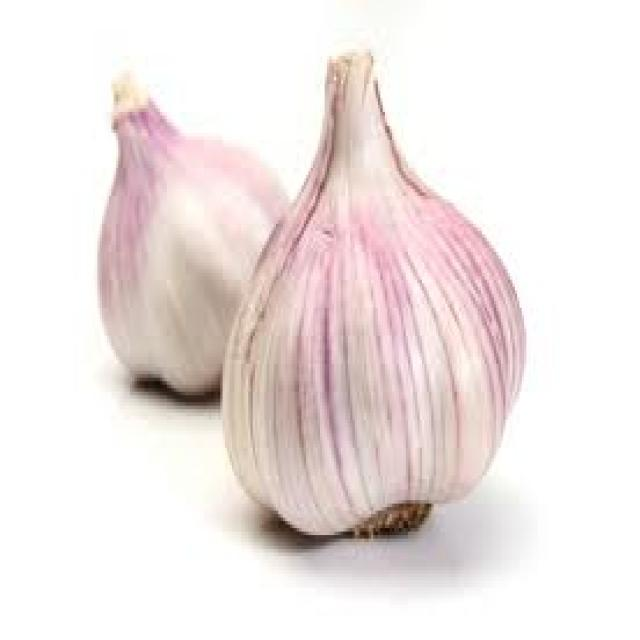garlic: (72, 18, 545, 566)
